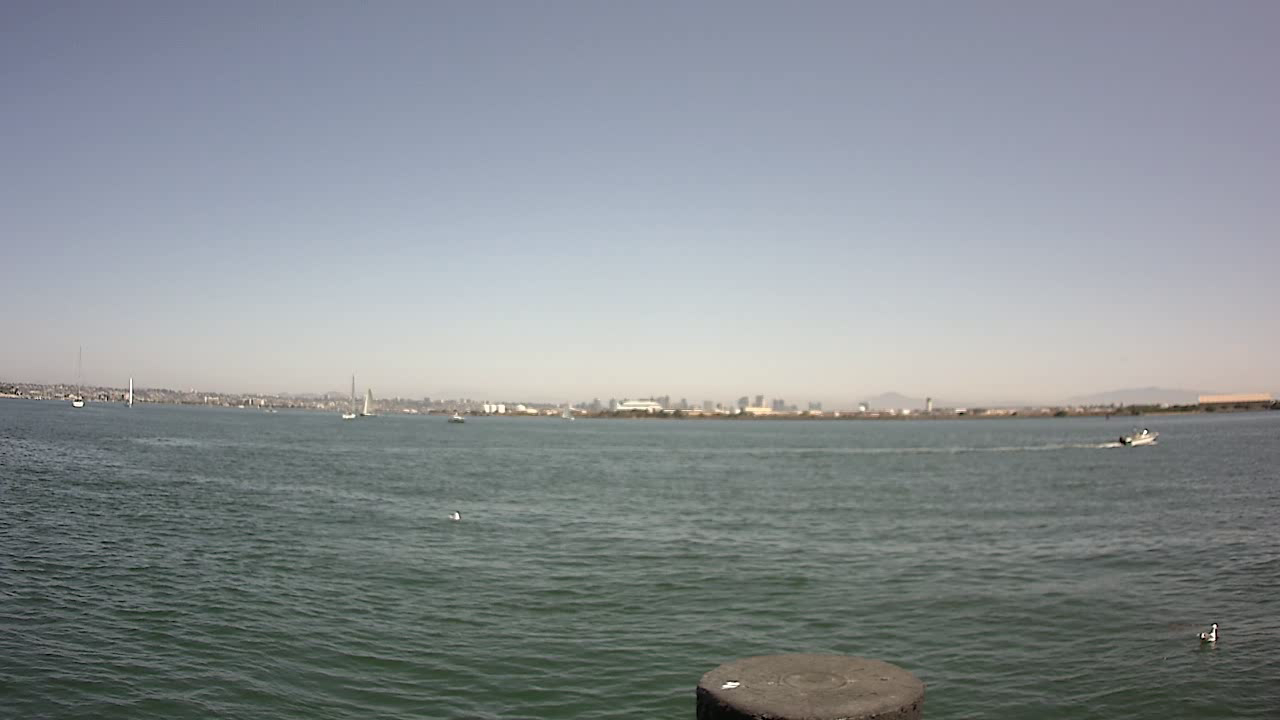target: (1112, 421, 1165, 452)
